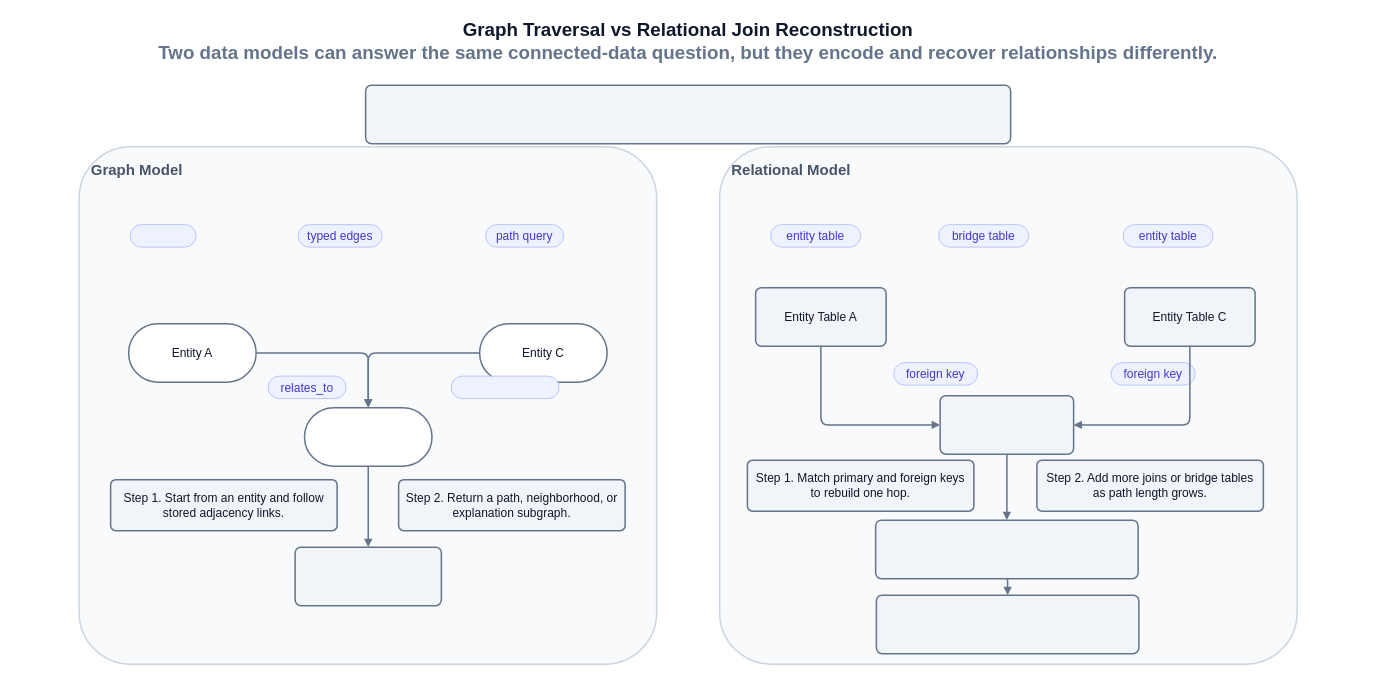
Image size: 1376x677. Some labels were removed from this diagram. Each missing label, with the centre of its shape:
A -> B -> C path: pixel 368 576
affiliated_with: pixel 504 387
Analytical question: how is Entity A connected to Entity C?: pixel 687 114
Entity B: pixel 367 436
Join A with relation rows: pixel 1006 549
Join relation rows with C: pixel 1007 624
Relation Table: pixel 1006 424
vertices: pixel 162 235
